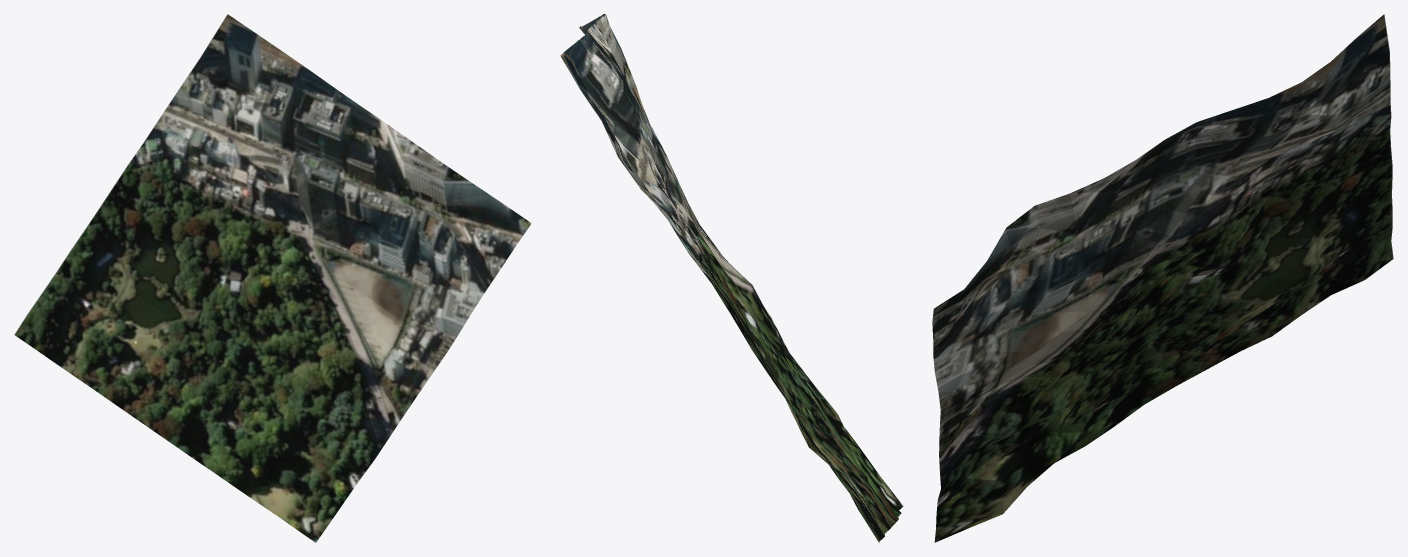
3 views of the same model, side by side, from view 1: azimuth 30°, elevation 25°; view 2: azimuth 150°, elevation 25°; view 3: azimuth 270°, elevation 25° (orthographic). The views are drawn at different scales.
Bounding box in the file's own units: 534 × 567 × 411.
Materials: 1 (1 with a texture image).
